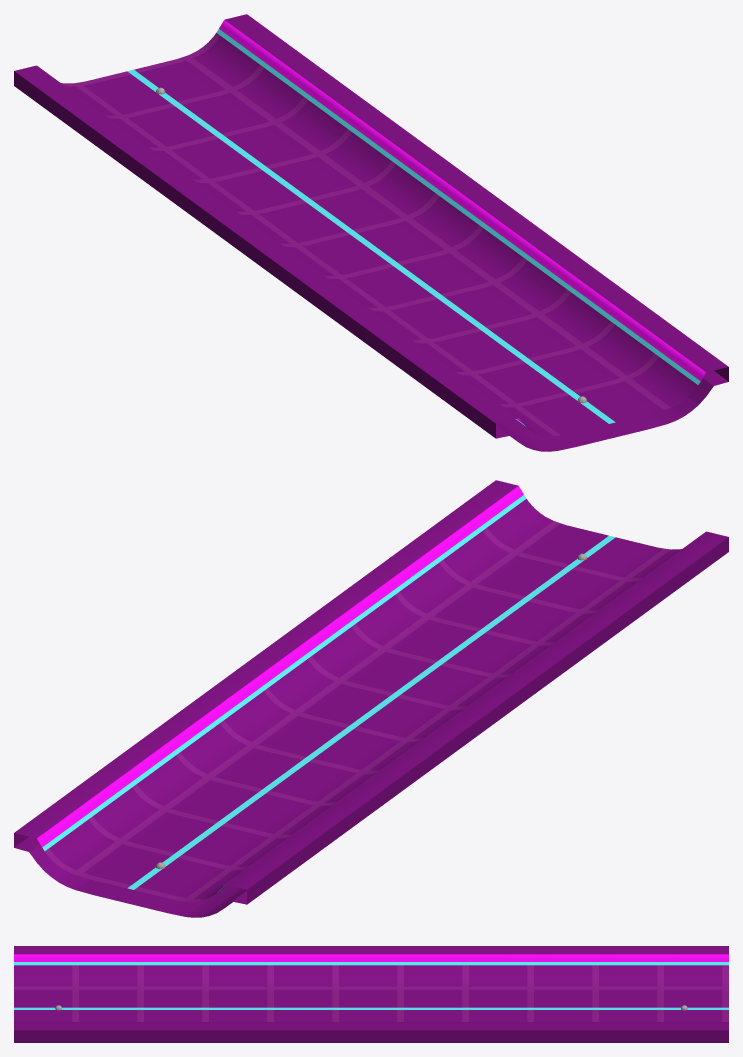
File: straight_block_wayP_T2.fbx
The picture shows the model from 3 angles, top to bottom: view 1: azimuth 30°, elevation 25°; view 2: azimuth 150°, elevation 25°; view 3: azimuth 270°, elevation 25°; orthographic projection. The views are drawn at different scales.
Visible parts, largest first — view 1: blur_block_40_T2; view 2: blur_block_40_T2; view 3: blur_block_40_T2.
Boxes of the visible parts, left/top/right/bottom form: blur_block_40_T2: left=14, top=14, right=728, bottom=451; blur_block_40_T2: left=14, top=480, right=728, bottom=917; blur_block_40_T2: left=14, top=946, right=728, bottom=1042.
Bounding box in the file's own units: 1130 × 199 × 4047.
Materials: 2 (1 with a texture image).
